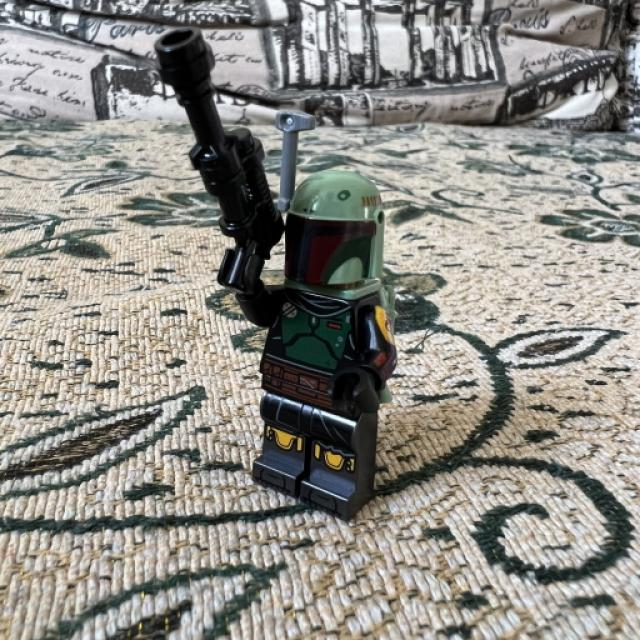Lego-Minifigures: (205, 101, 451, 546)
